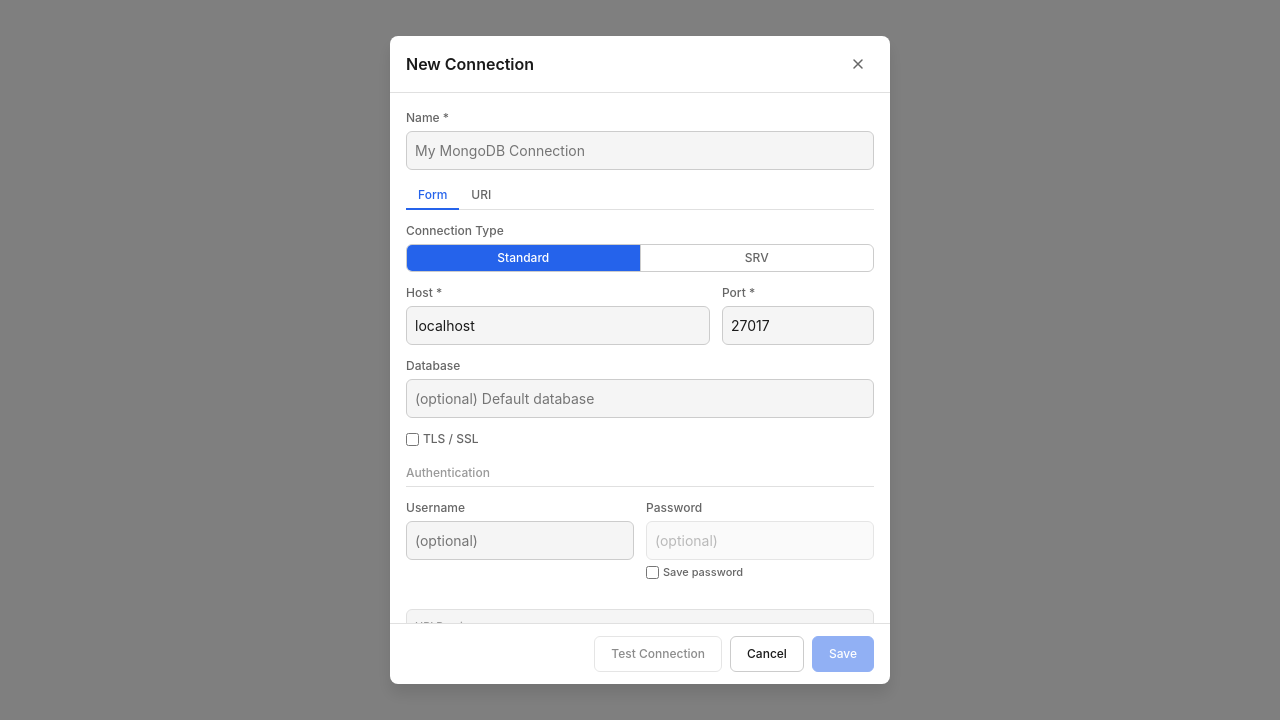
Test case: ConnectionDialog › form/uri tabs › syncs URI to form fields when switching to Form tab
Click the tab with test id "uri-tab" at (481, 196), box [459,182,503,210]
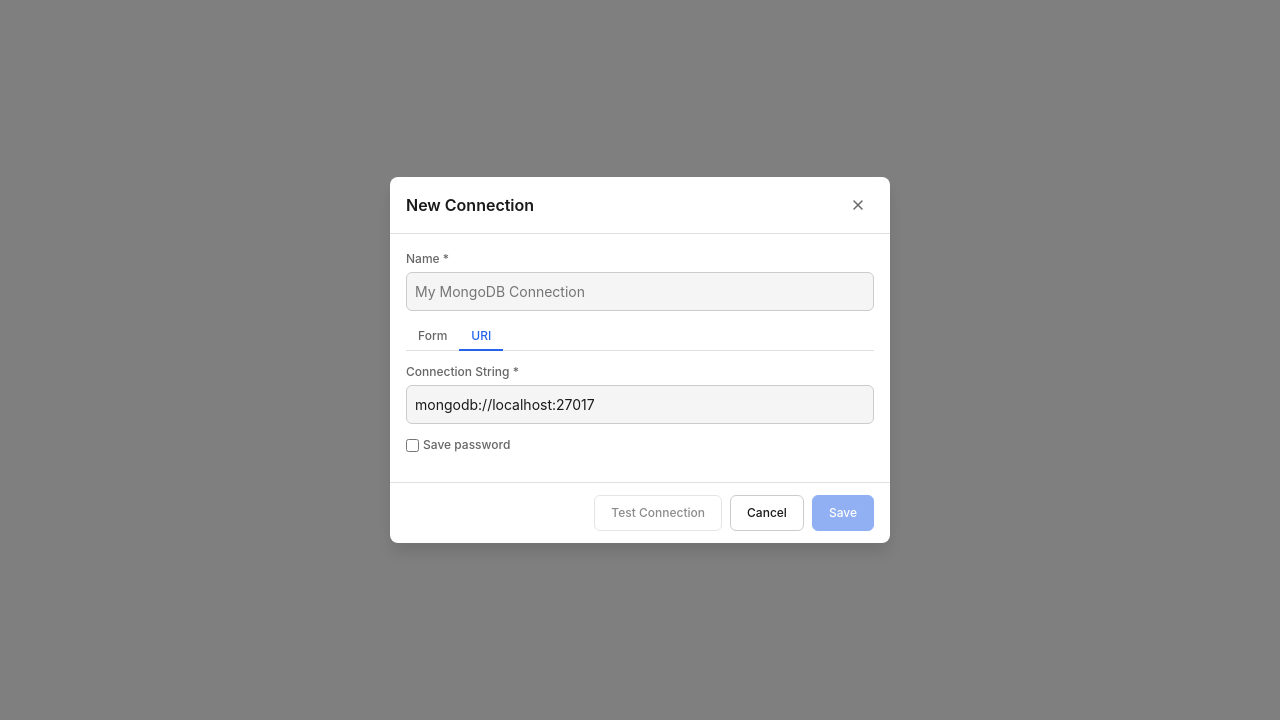
Replace the text in the field with test id "uri-input" with "mongodb://custom.host:12345/mydb" at (640, 404), box [406,385,874,424]
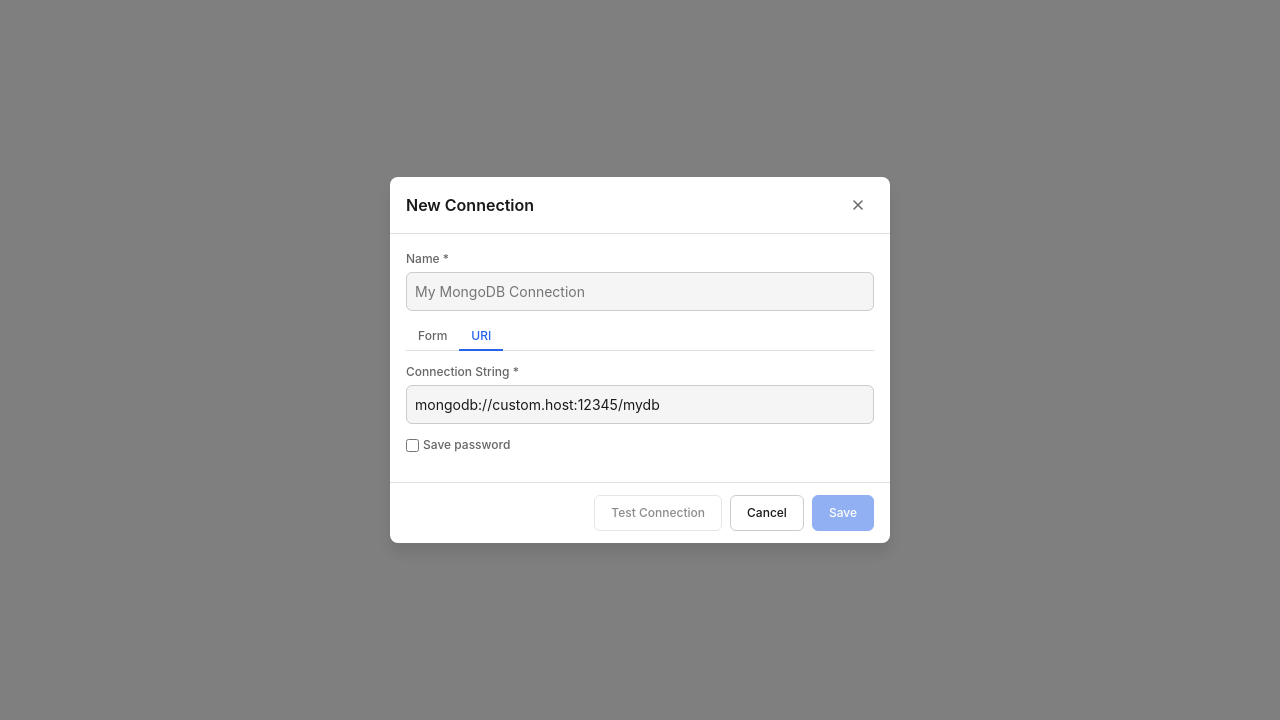
Click the tab with test id "form-tab" at (433, 337), box [406,323,459,351]
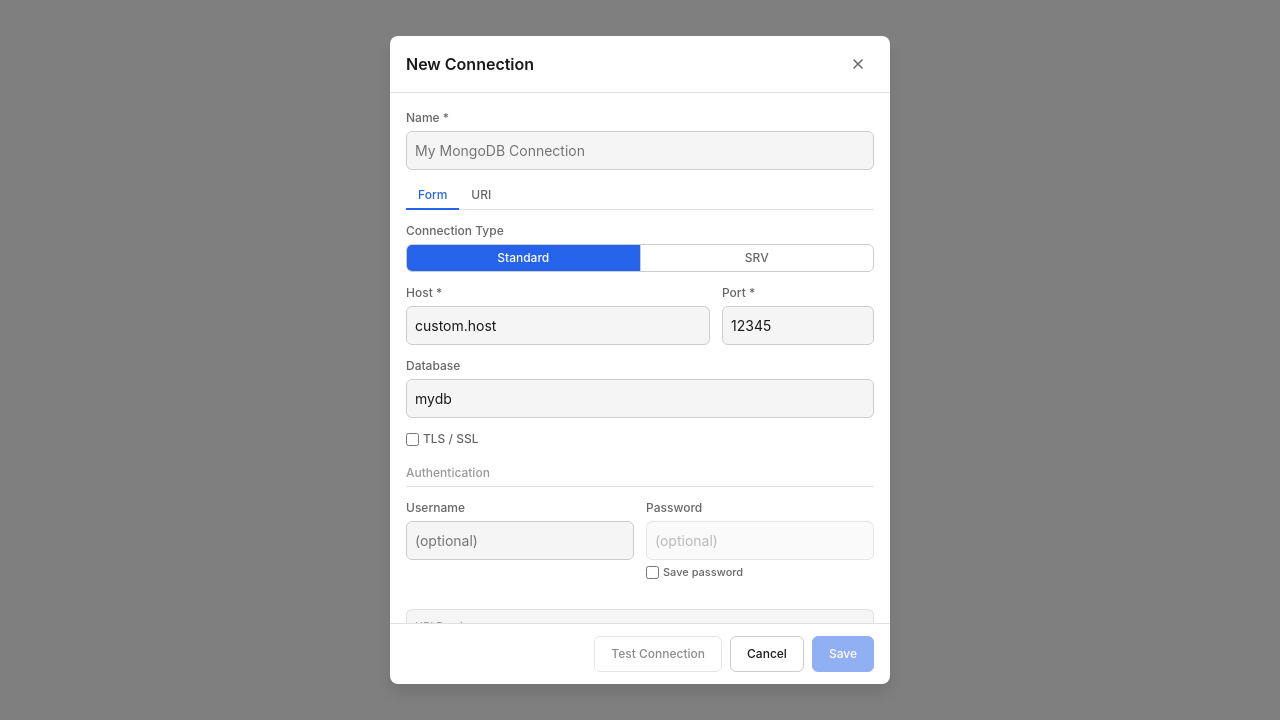
Result: the field labelled "Host *" holds "custom.host" at [406,306,710,345]
Result: the number field labelled "Port *" holds "12345" at [722,306,874,345]
Result: the field labelled "Database" holds "mydb" at [406,379,874,418]
